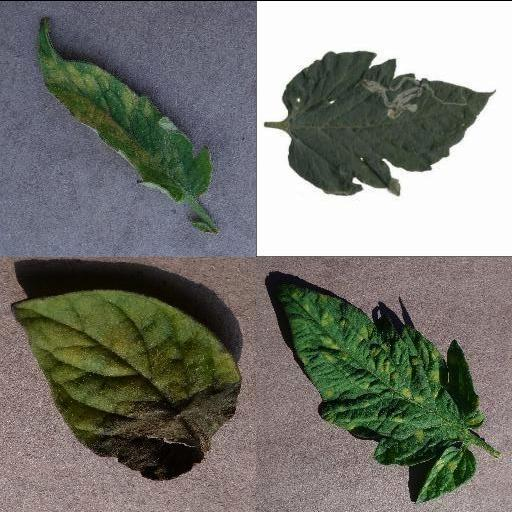Late Blight: (9, 287, 243, 479)
Leaf Miner: (281, 50, 495, 198)
Leaf Mold: (278, 284, 486, 500), (35, 18, 213, 200)
